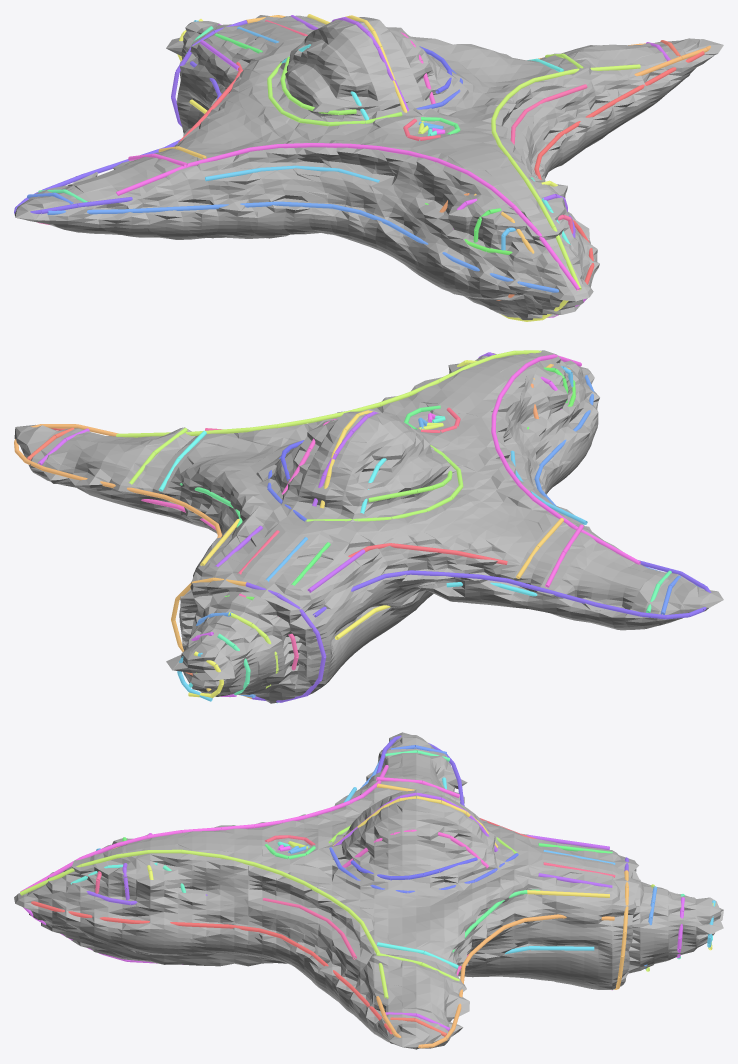
The model's file is author1_ship.gltf.
3 views of the same model, one above another, from view 1: azimuth 30°, elevation 25°; view 2: azimuth 150°, elevation 25°; view 3: azimuth 270°, elevation 25° (orthographic). The views are drawn at different scales.
Size of the model in its own units: 0.728 by 0.2011 by 0.6943.
